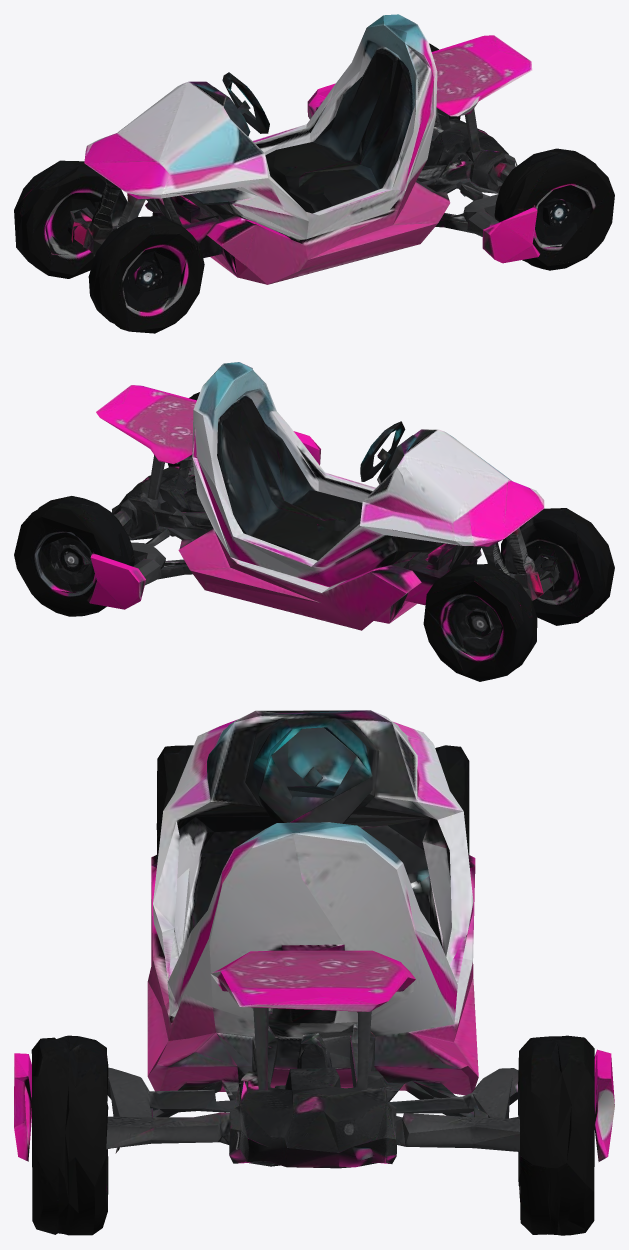
The model's file is kart-pink.glb.
3 renders of one model, top to bottom at view 1: azimuth 30°, elevation 25°; view 2: azimuth 150°, elevation 25°; view 3: azimuth 270°, elevation 25°, orthographic. The views are drawn at different scales.
Size of the model in its own units: 1.9 by 0.794 by 1.27.
1 material, 1 textured.
